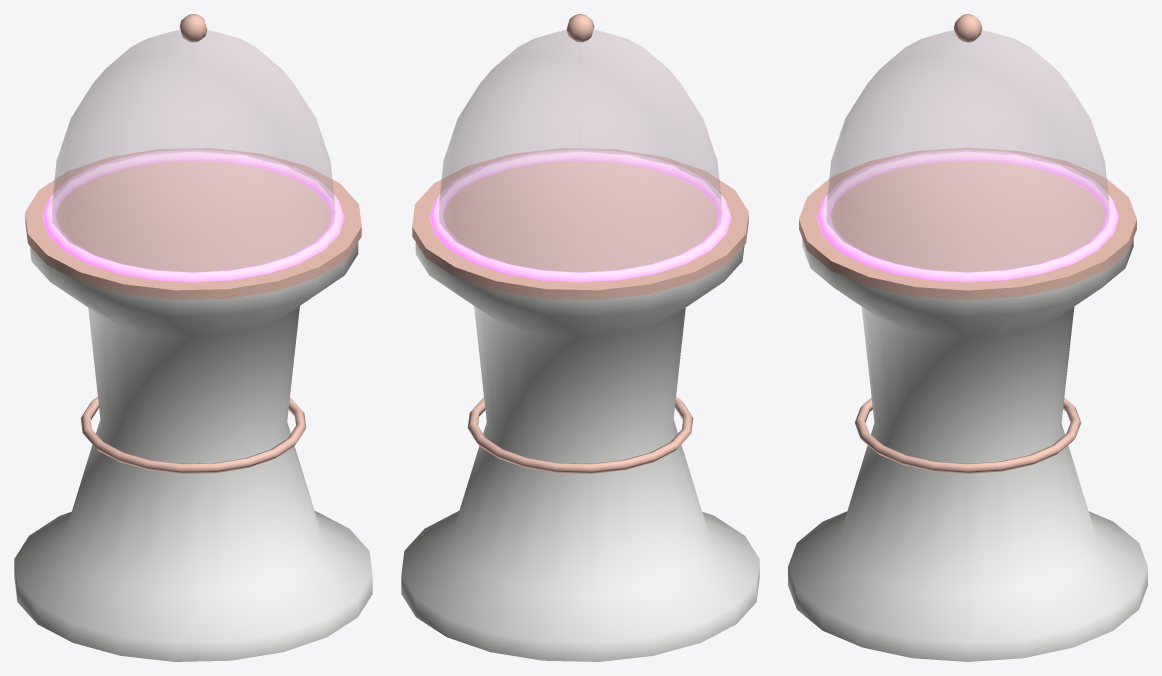
Rendered from ag_pedestal.glb.
3 renders of one model, left to right at view 1: azimuth 30°, elevation 25°; view 2: azimuth 150°, elevation 25°; view 3: azimuth 270°, elevation 25°, orthographic.
Visible parts, largest first — view 1: ag_pedestal, dome; view 2: ag_pedestal, dome; view 3: ag_pedestal, dome.
Part boxes in pixels (left/top/right/bottom): ag_pedestal: left=14, top=148, right=372, bottom=661; dome: left=52, top=14, right=334, bottom=272; ag_pedestal: left=401, top=148, right=759, bottom=661; dome: left=439, top=14, right=721, bottom=272; ag_pedestal: left=788, top=147, right=1147, bottom=661; dome: left=827, top=14, right=1108, bottom=272.
Size of the model in its own units: 1 by 1.75 by 1.
